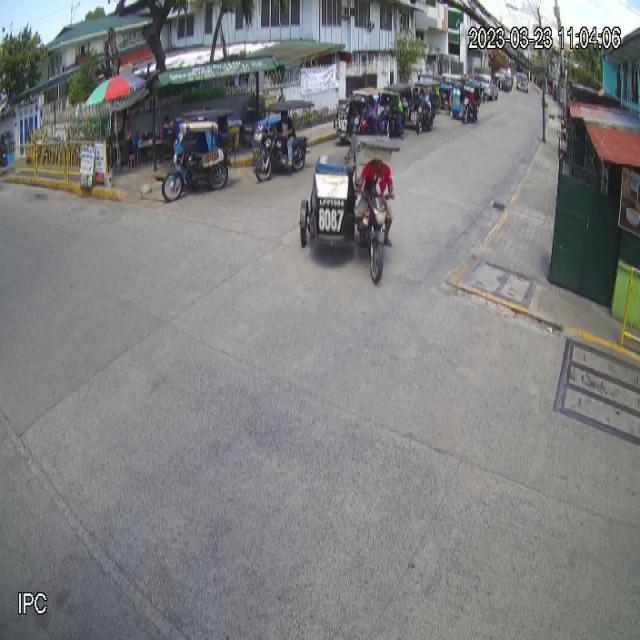Tricycle: (298, 133, 400, 287)
